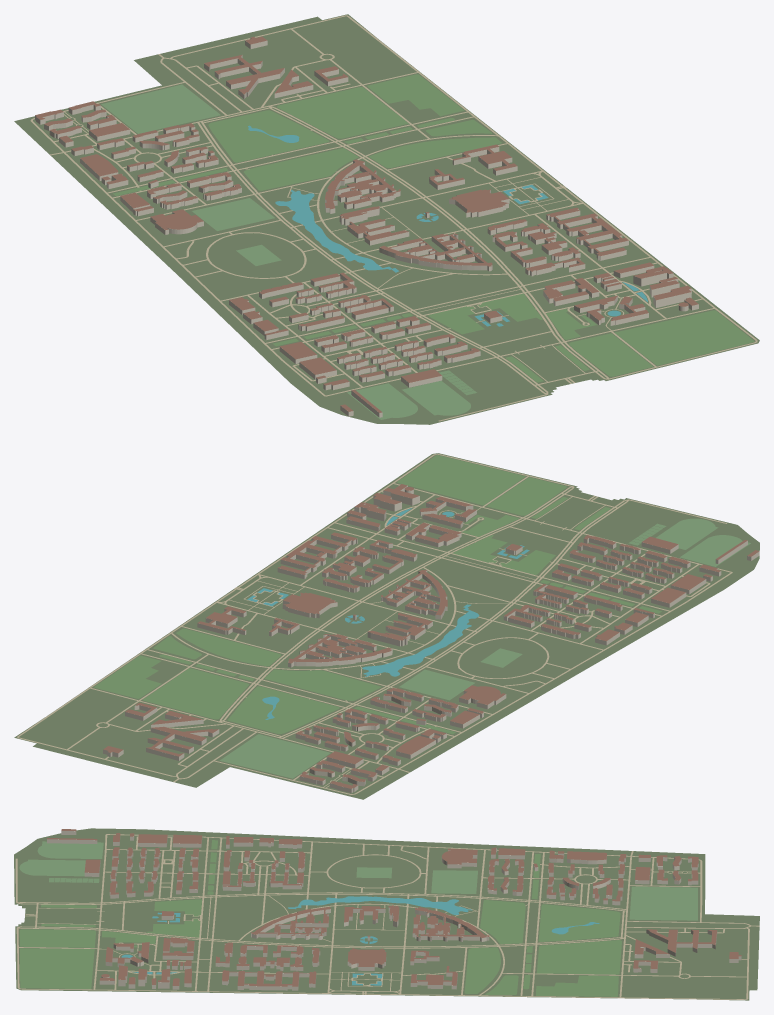
3 views of the same model, one above another, from view 1: azimuth 30°, elevation 25°; view 2: azimuth 150°, elevation 25°; view 3: azimuth 270°, elevation 25° (orthographic). The views are drawn at different scales.
Visible parts, largest first — view 1: campus-ground, environment (×4), buildings, roofs; view 2: campus-ground, environment (×4), buildings, roofs; view 3: campus-ground, environment (×4), roofs, buildings.
Part boxes in pixels (x1,y1,x2,y2): campus-ground: (14, 14, 759, 424); environment (×4): (30, 15, 757, 421); buildings: (35, 38, 698, 417); roofs: (35, 36, 698, 412); campus-ground: (14, 453, 759, 799); environment (×4): (17, 454, 750, 794); buildings: (103, 485, 759, 793); roofs: (103, 484, 759, 788); campus-ground: (14, 828, 759, 1000); environment (×4): (15, 834, 759, 999); roofs: (47, 829, 741, 986); buildings: (47, 831, 741, 990).
Size of the model in its own units: 1128 by 20.05 by 2065.
